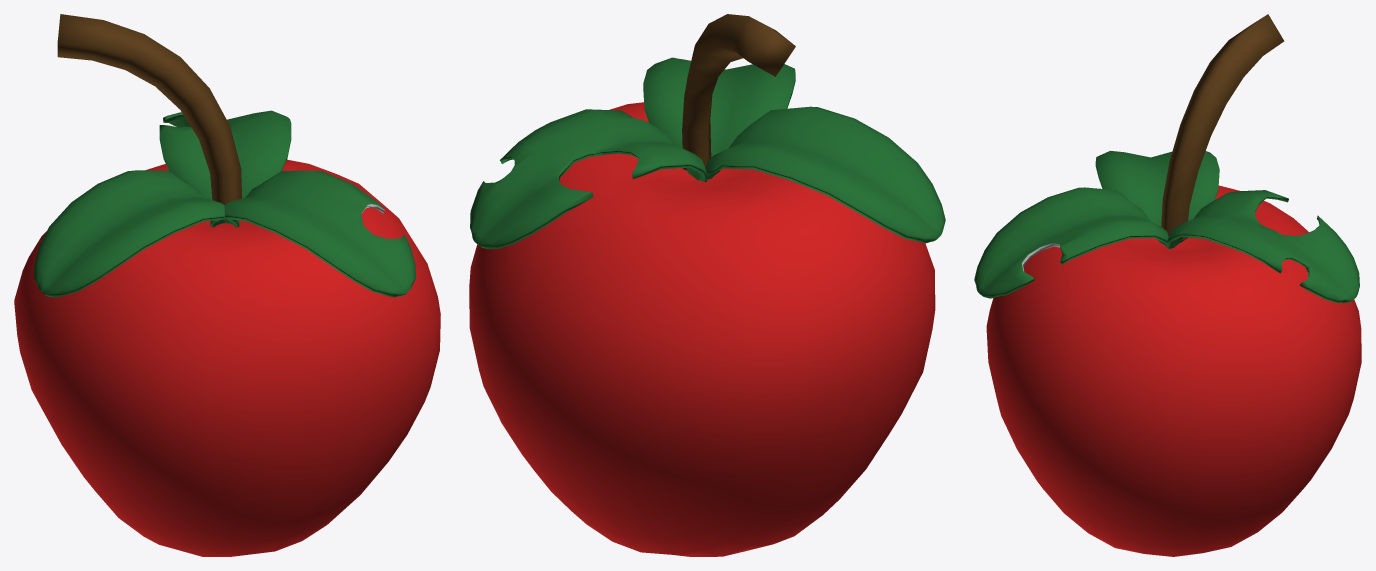
The model's file is Apple.fbx.
3 views of the same model, side by side, from view 1: azimuth 30°, elevation 25°; view 2: azimuth 150°, elevation 25°; view 3: azimuth 270°, elevation 25° (orthographic). The views are drawn at different scales.
Visible parts, largest first — view 1: Apple2; view 2: Apple2; view 3: Apple2.
Boxes of the visible parts, x1=… form: Apple2: x1=14, y1=14, x2=440, y2=556; Apple2: x1=469, y1=14, x2=945, y2=556; Apple2: x1=974, y1=14, x2=1361, y2=556.
Bounding box in the file's own units: 3.13 × 4.08 × 3.01.
